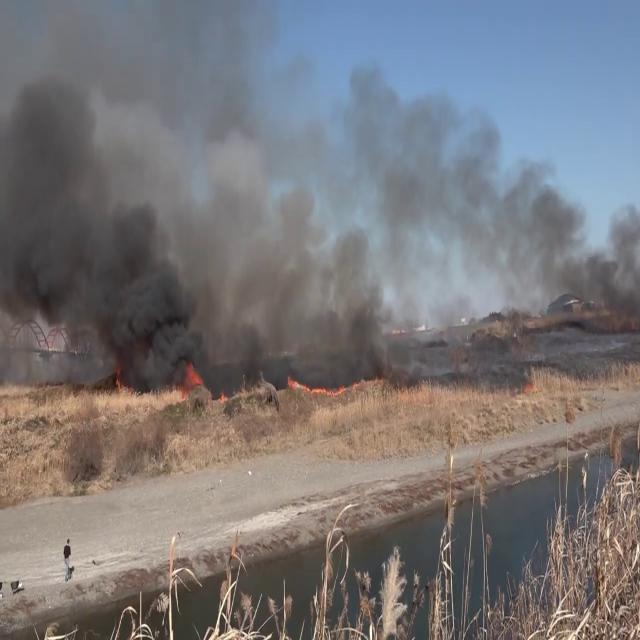Fire: (116, 358, 210, 409)
Smoke: (0, 18, 635, 383)
